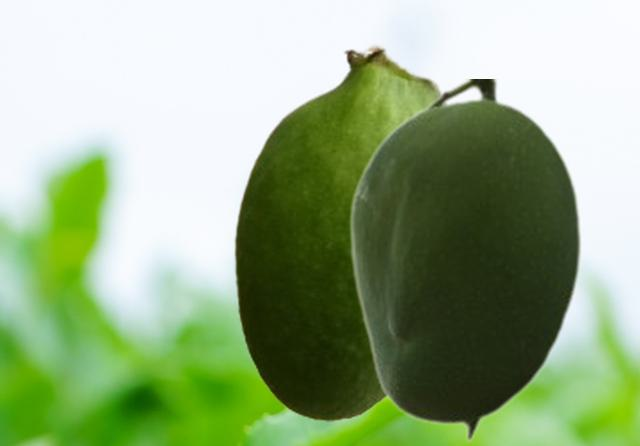green_mango: (347, 79, 581, 442), (233, 43, 444, 420)
